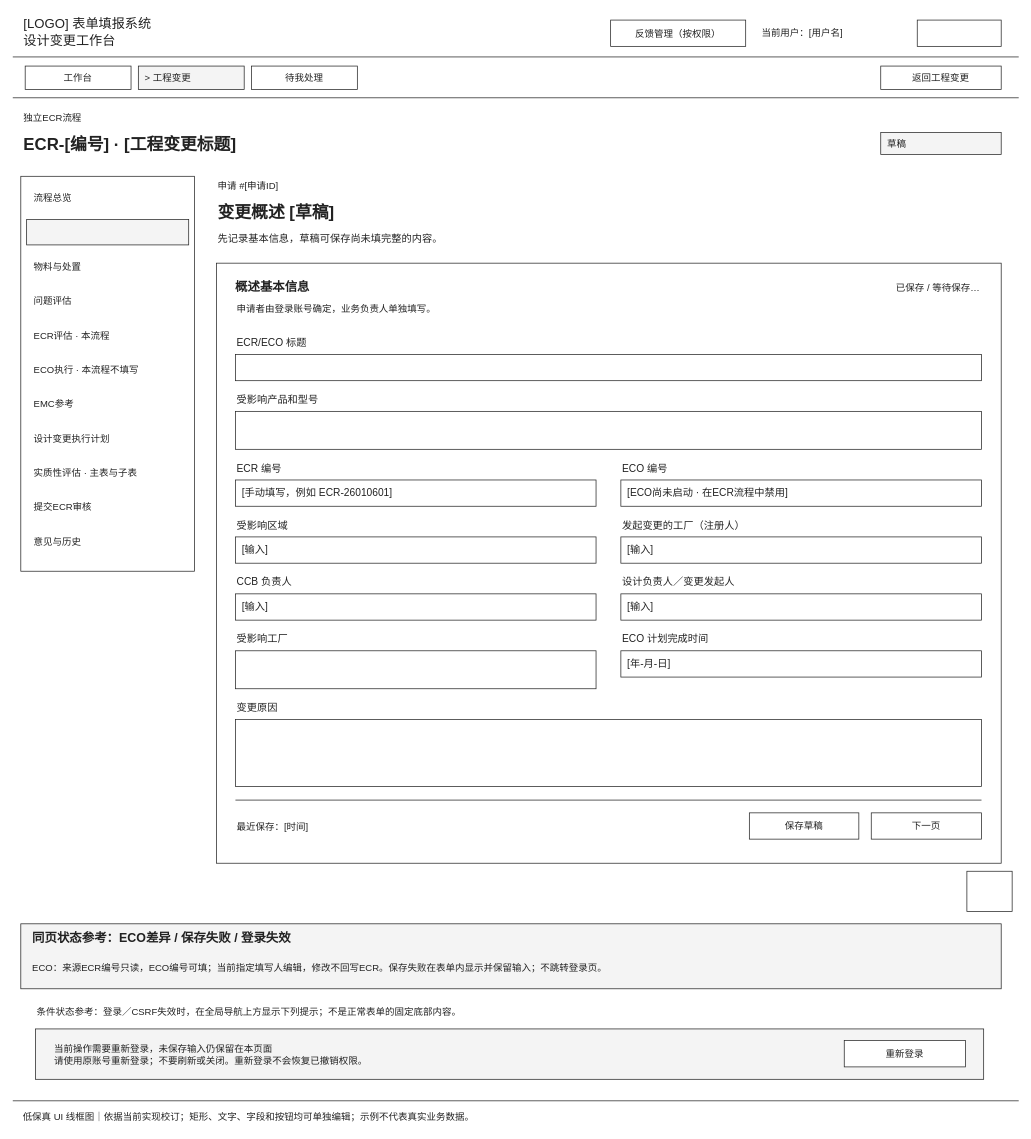
Some shapes in this 1031 by 1139 pixel diagram are drawn without their labels. The shapes that lost their labels are listed below. From the top down, each one's centre as x and y in pixels, then its label:
At (x=959, y=32): "退出登录".
At (x=107, y=232): "> 概述".
At (x=608, y=367): "[填写这项设计变更的标题]".
At (x=608, y=430): "[填写涉及的产品及型号]".
At (x=415, y=669): "[可多行填写]".
At (x=608, y=753): "[说明变更来源、原因分析和解决措施]".
At (x=989, y=891): "意见与 反馈".
